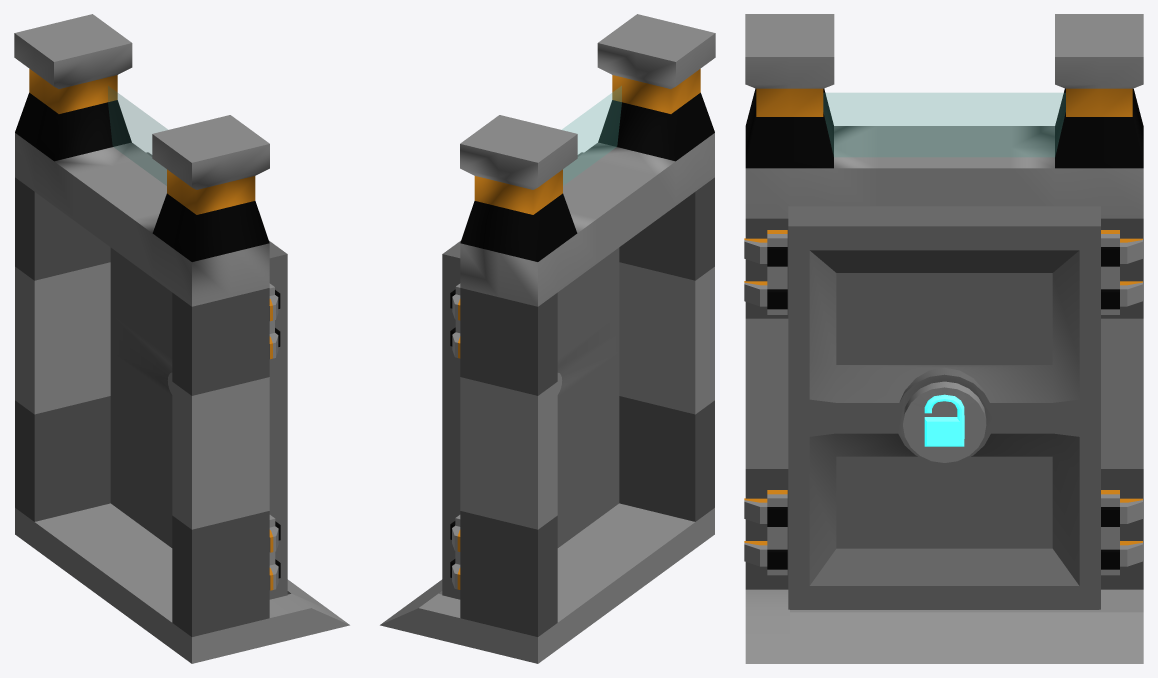
Rendered from Environment2_Door_Door2.fbx.
3 renders of one model, left to right at view 1: azimuth 30°, elevation 25°; view 2: azimuth 150°, elevation 25°; view 3: azimuth 270°, elevation 25°, orthographic. The views are drawn at different scales.
Parts seen in each view (by area): view 1: Door2 Frame, Door2 Door, Cube.042, Cube.039; view 2: Door2 Frame, Door2 Door, Cube.041, Cube.038; view 3: Door2 Door, Door2 Frame, Lock Pop off, Cube.042, Cube.039, Cube.041, Cube.038.
Boxes of the visible parts, box(x1,y1,x2,y2) form: Door2 Frame: box(14, 14, 349, 663); Door2 Door: box(110, 152, 287, 599); Cube.042: box(269, 515, 280, 590); Cube.039: box(269, 283, 280, 359); Door2 Frame: box(380, 14, 715, 663); Door2 Door: box(442, 152, 619, 599); Cube.041: box(450, 515, 460, 589); Cube.038: box(450, 283, 460, 358); Door2 Door: box(788, 206, 1100, 609); Door2 Frame: box(745, 14, 1143, 663); Lock Pop off: box(903, 381, 986, 462); Cube.042: box(744, 490, 787, 575); Cube.039: box(744, 230, 787, 314); Cube.041: box(1101, 490, 1142, 575); Cube.038: box(1101, 230, 1142, 314).
Bounding box in the file's own units: 828 × 2498 × 1607.
